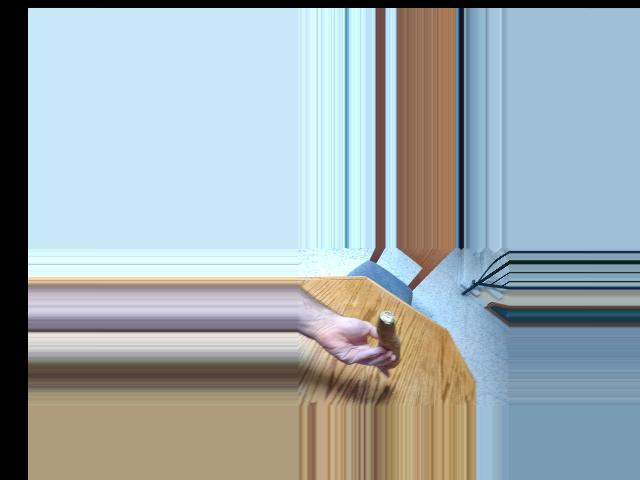sweet_potato: (374, 320, 400, 365)
